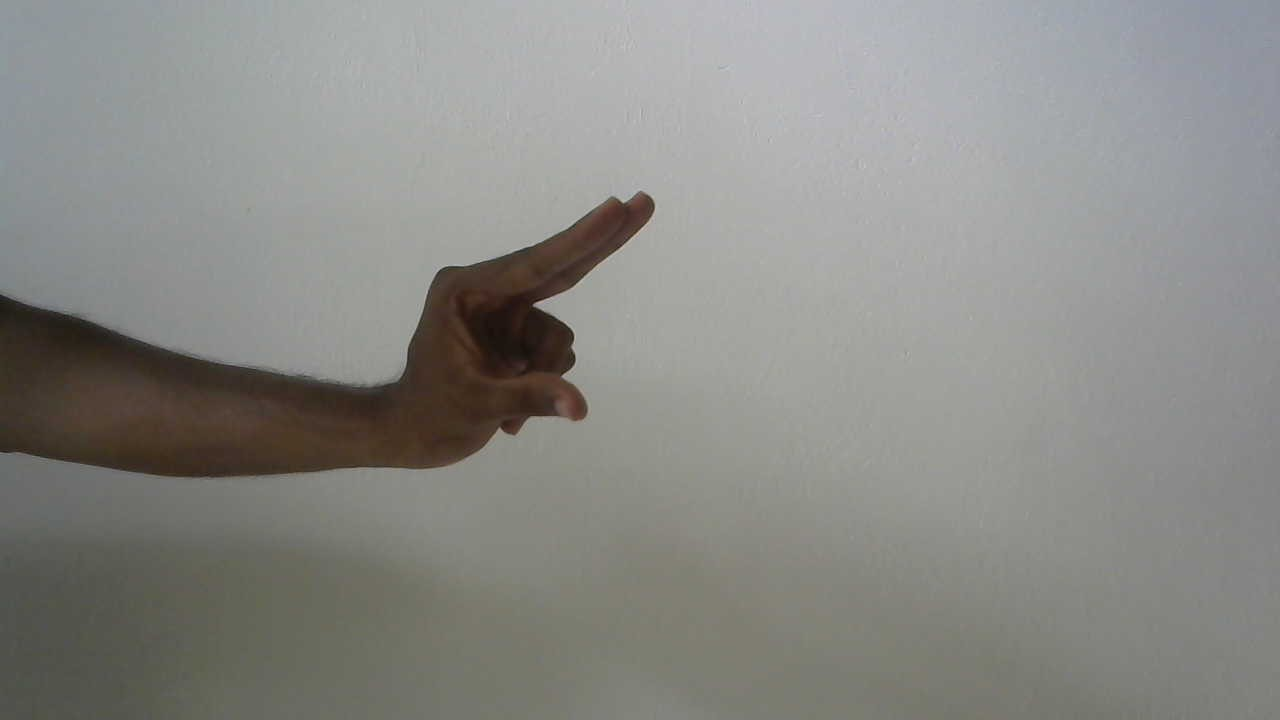no: (385, 179, 667, 477)
